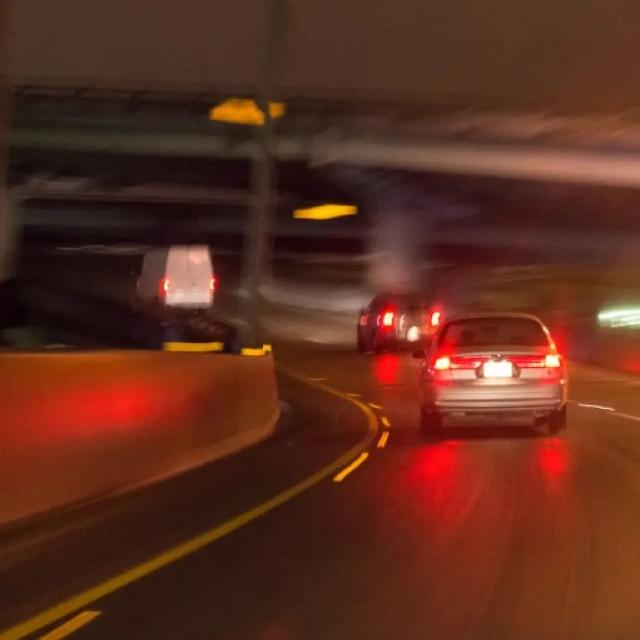car: (416, 309, 570, 435), (354, 286, 451, 359), (134, 242, 218, 315)
